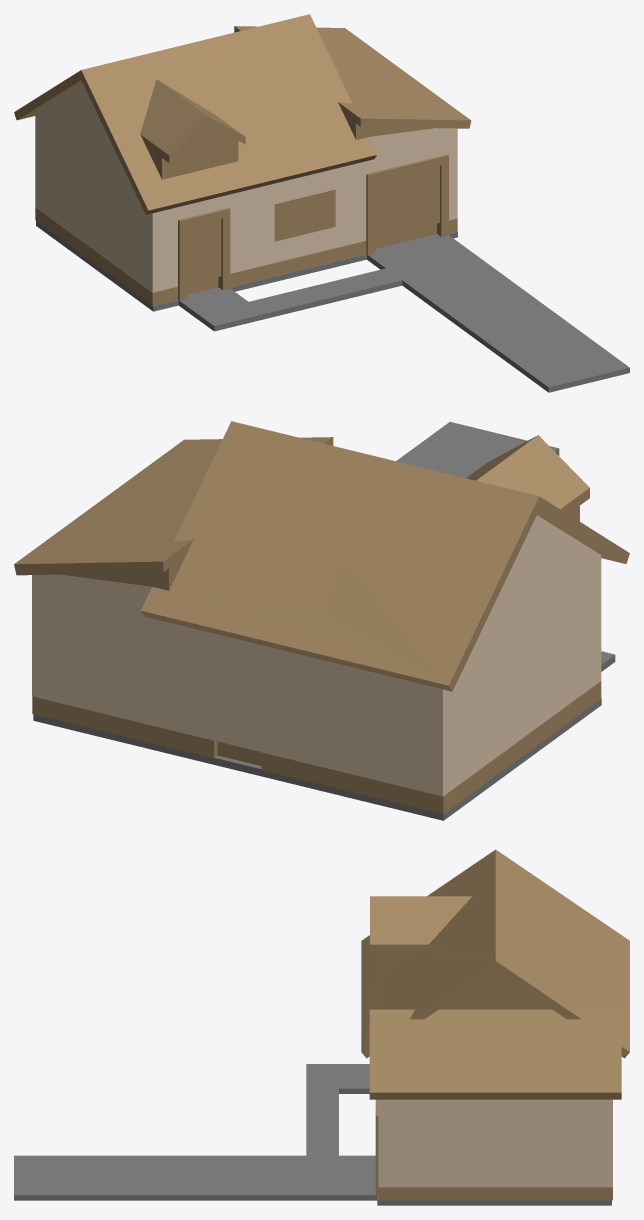
File: brown_house.gltf
The picture shows the model from 3 angles, top to bottom: view 1: azimuth 30°, elevation 25°; view 2: azimuth 150°, elevation 25°; view 3: azimuth 270°, elevation 25°; orthographic projection. The views are drawn at different scales.
Size of the model in its own units: 1.29 by 0.7574 by 2.1.
